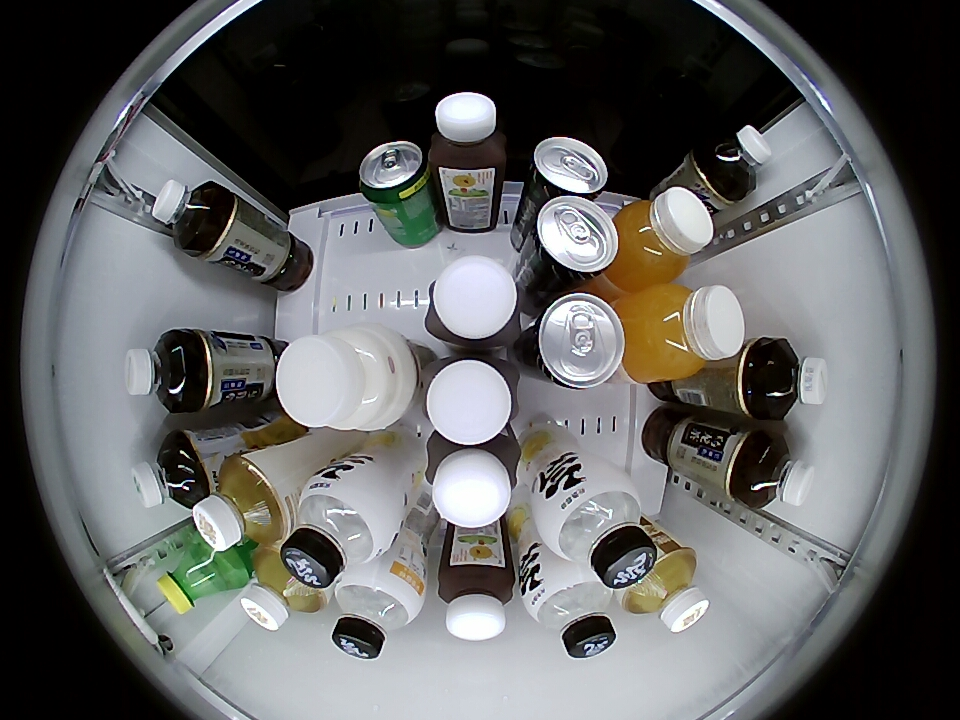damaicha: (131, 433, 207, 510)
qingdaowangzi-1: (523, 292, 626, 391), (526, 196, 619, 285), (525, 137, 609, 203)
rancha-2: (193, 454, 288, 552), (622, 542, 708, 633), (240, 549, 327, 631)
weic: (619, 283, 745, 384), (609, 188, 713, 288)
wulongcha: (754, 338, 829, 421), (124, 329, 196, 413), (741, 433, 816, 509), (151, 179, 226, 252), (705, 125, 773, 197)
xuebi-b: (157, 540, 237, 615)
xuebi2: (359, 140, 434, 207)
yingyangkuaixian: (276, 323, 417, 433)
youyanggudong: (424, 253, 522, 352), (423, 353, 518, 446), (425, 436, 516, 529), (430, 92, 508, 180), (438, 560, 515, 642)
yuanqishui: (533, 465, 658, 589), (279, 465, 404, 588), (331, 564, 425, 660), (522, 564, 616, 658)
